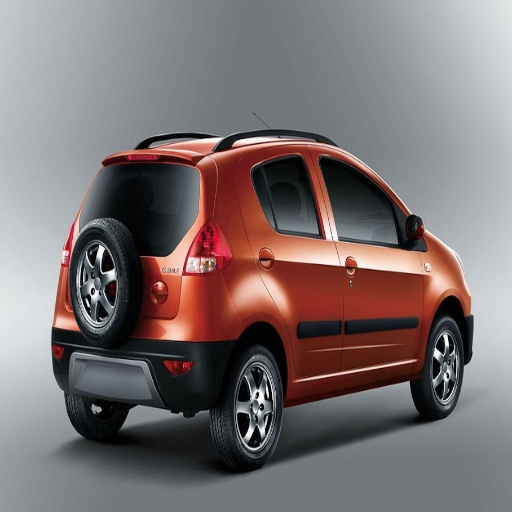back_bumper: (63, 270, 232, 404)
back_right_door: (245, 145, 343, 379)
